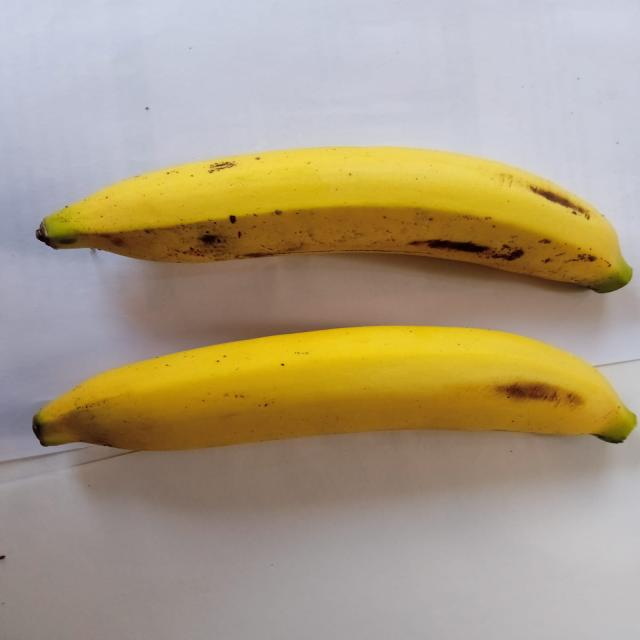banana: (38, 148, 631, 292), (34, 326, 636, 449)
